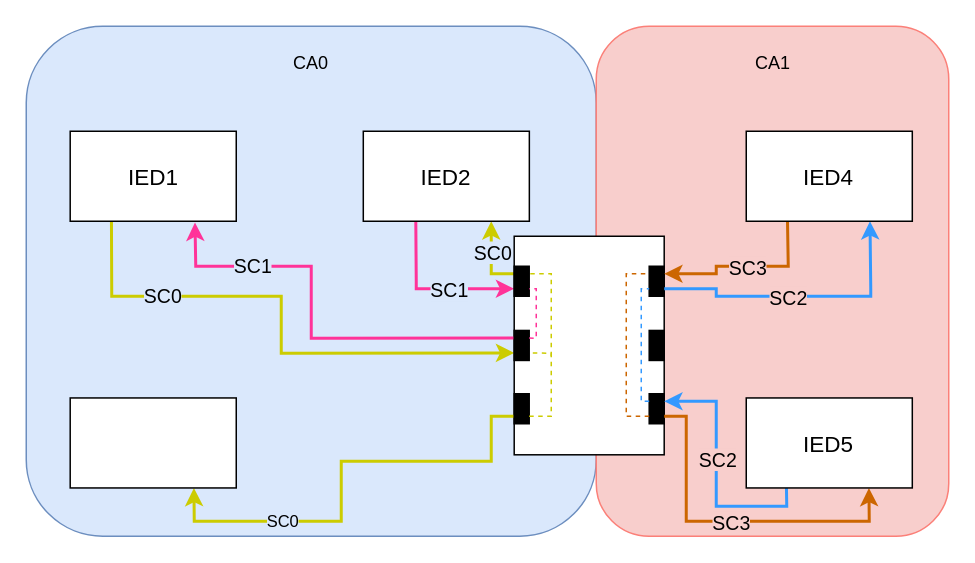
This 975x563 diagram has some shape labels left out. The shapes that lost their labels are listed below. From the top down, each one's centre as x and y in pixels, then its label:
At point 588,345: "ETH Switch".
At point 152,442: "IED3".
